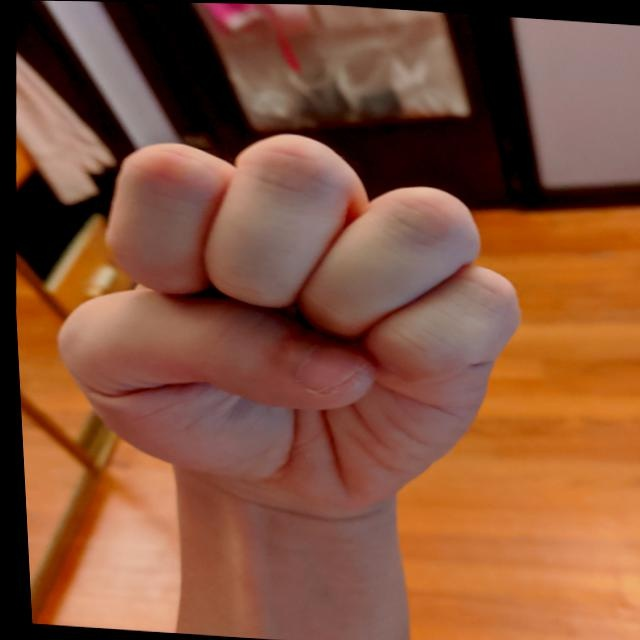E: (25, 112, 541, 529)
